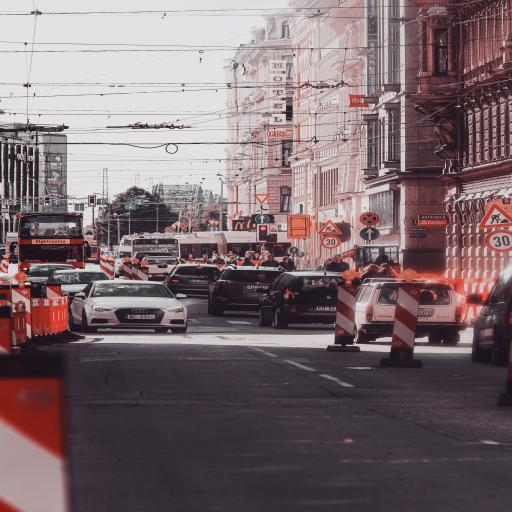car: (69, 281, 187, 333), (259, 272, 344, 328), (467, 267, 511, 365), (208, 267, 281, 316), (414, 282, 466, 343), (46, 269, 109, 297), (165, 264, 220, 294), (141, 254, 181, 281), (26, 264, 74, 283), (132, 251, 177, 261), (114, 259, 124, 277)
